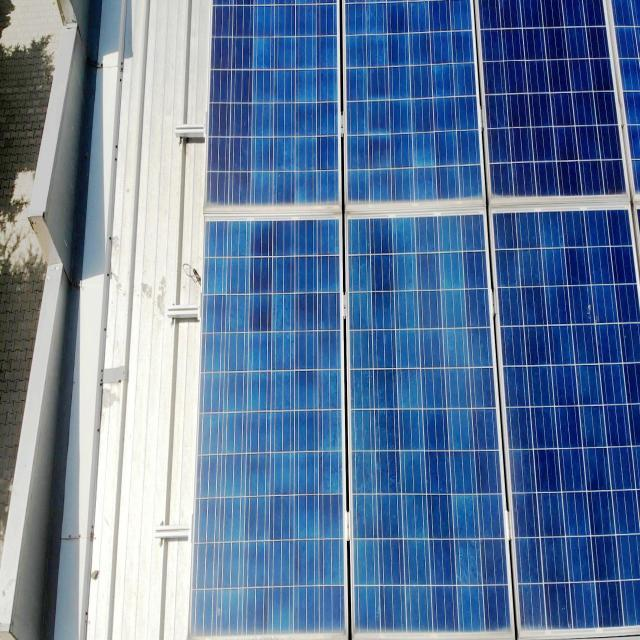no faulty: (343, 213, 518, 637), (180, 212, 350, 640), (473, 0, 632, 204), (338, 2, 487, 208), (206, 5, 345, 206)
